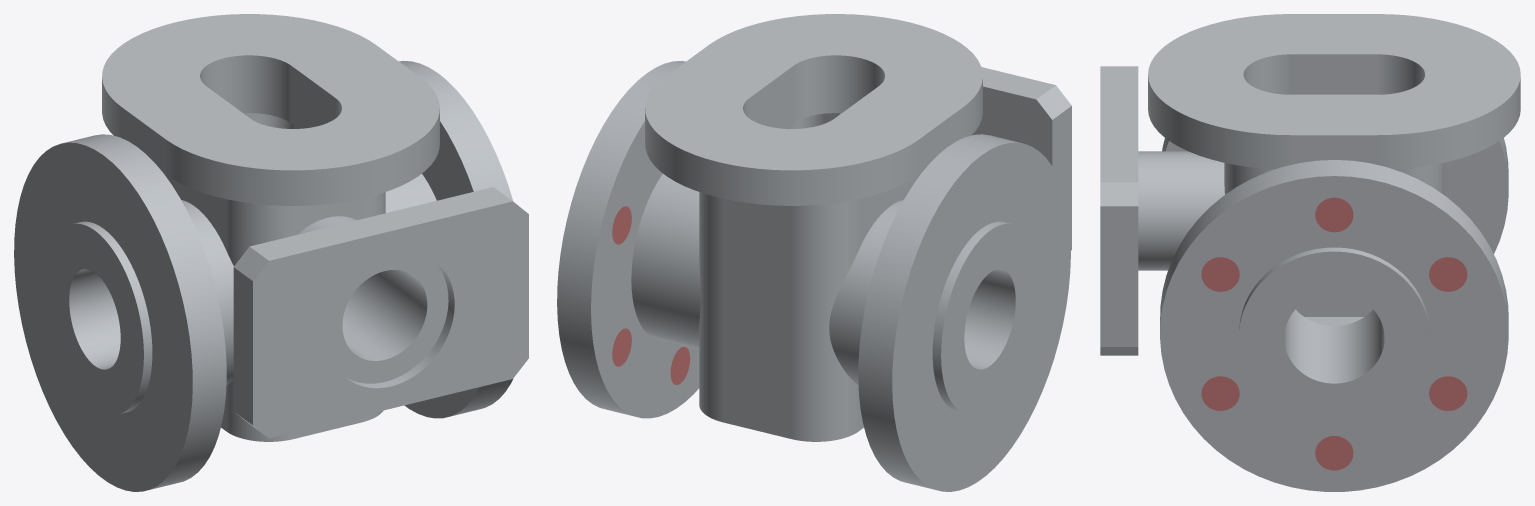
File: step_14.glb
3 renders of one model, left to right at view 1: azimuth 30°, elevation 25°; view 2: azimuth 150°, elevation 25°; view 3: azimuth 270°, elevation 25°, orthographic. The views are drawn at different scales.
Visible parts, largest first — view 1: part__valve body; view 2: part__valve body, removed__valve body; view 3: part__valve body, removed__valve body.
Boxes of the visible parts, x1,y1,x2,y2 form: part__valve body: [14, 14, 528, 491]; part__valve body: [557, 14, 1071, 491]; removed__valve body: [612, 206, 690, 384]; part__valve body: [1100, 14, 1520, 491]; removed__valve body: [1201, 197, 1467, 470].
Bounding box in the file's own units: 166 × 156 × 176.
